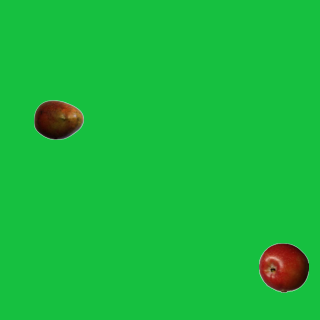Apple Braeburn: (258, 242, 308, 292)
Mango Red: (33, 94, 83, 144)
